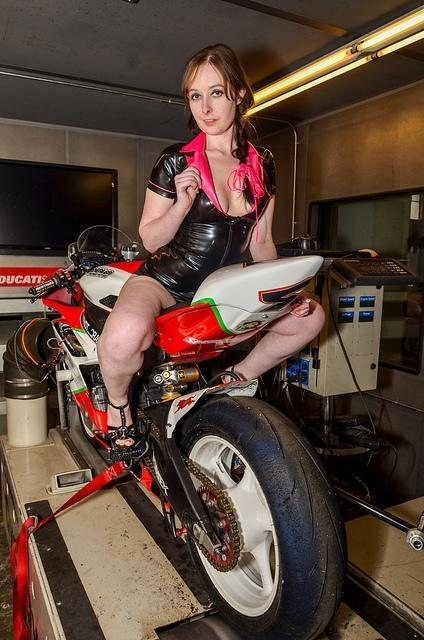motorcycle: (33, 228, 352, 628)
